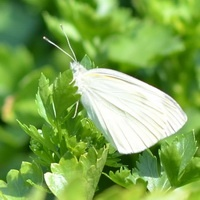insect: (43, 31, 186, 153)
